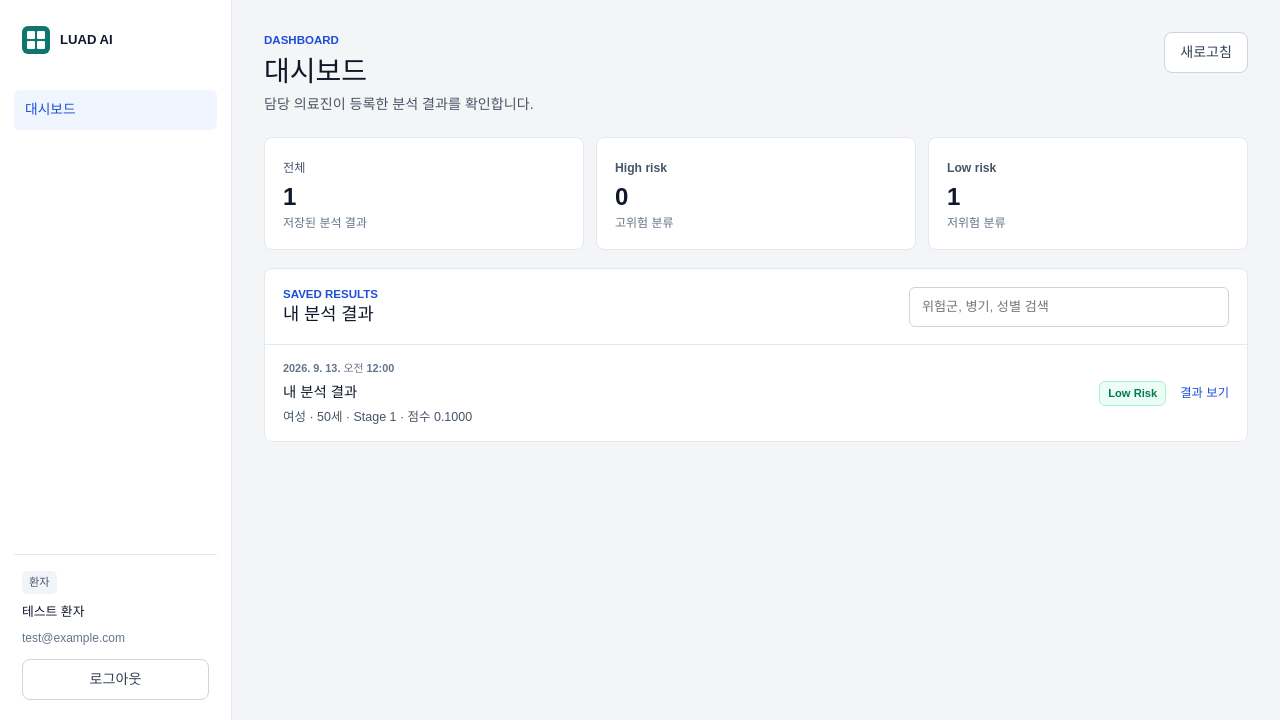
analysis navigation › opens a saved result, returns to the dashboard and signs out
Expected: the heading "대시보드" is shown, 264,56 -> 367,87
Click the button "대시보드": (116, 110) 14,90 -> 217,130
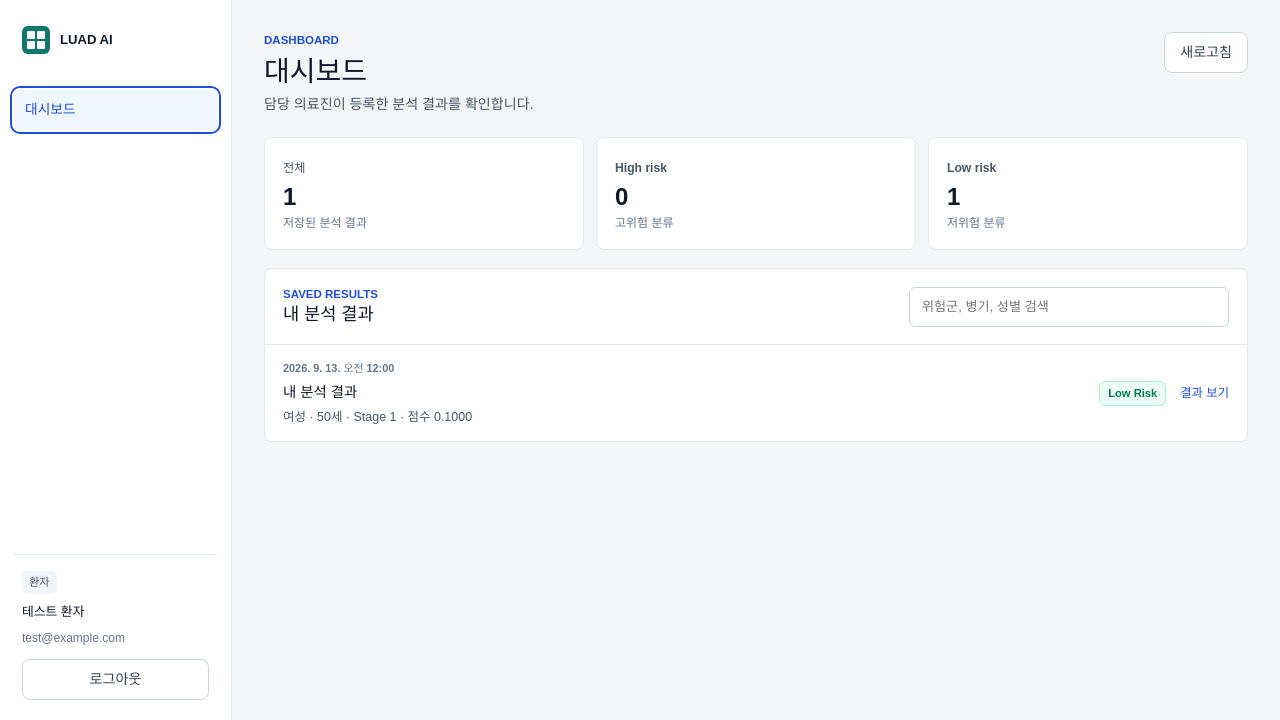
Expected: the heading "내 분석 결과" is shown, 283,303 -> 378,327
Click the button "내 분석 결과": (339, 368) 283,360 -> 1079,426
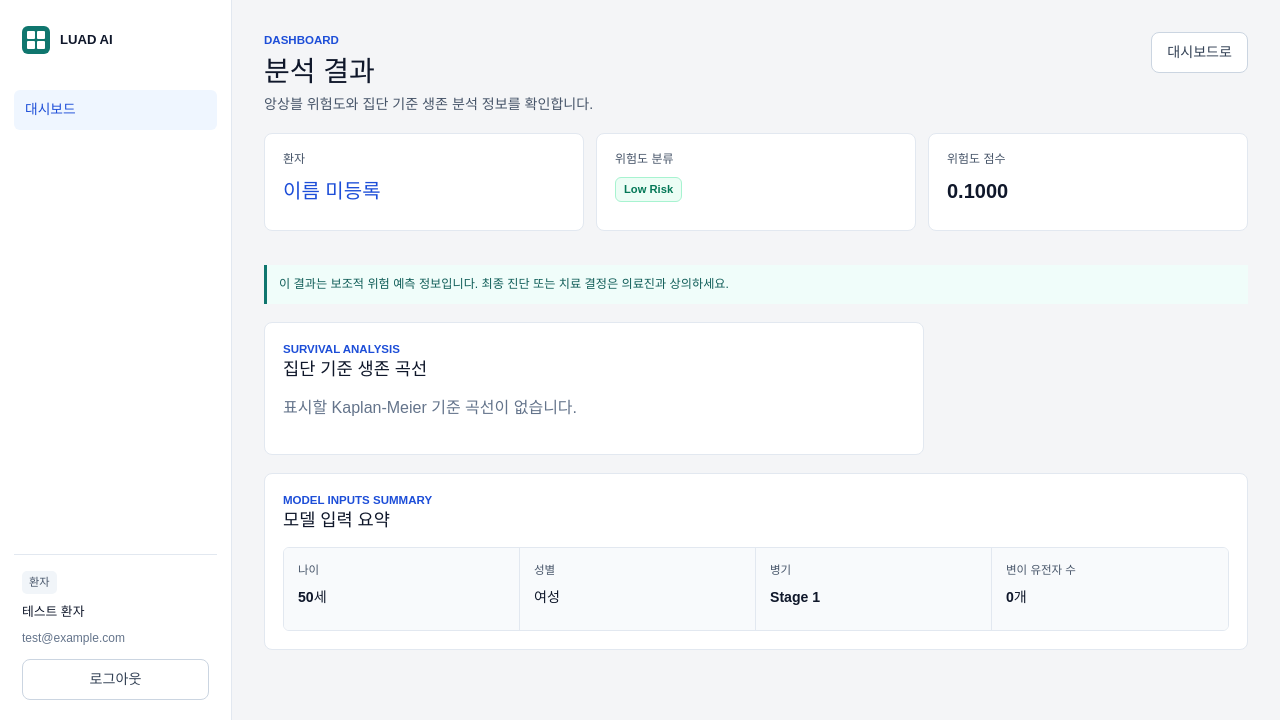
Expected: the heading "분석 결과" is shown, 264,56 -> 375,87
Click the button "대시보드로": (1200, 53) 1151,32 -> 1248,73
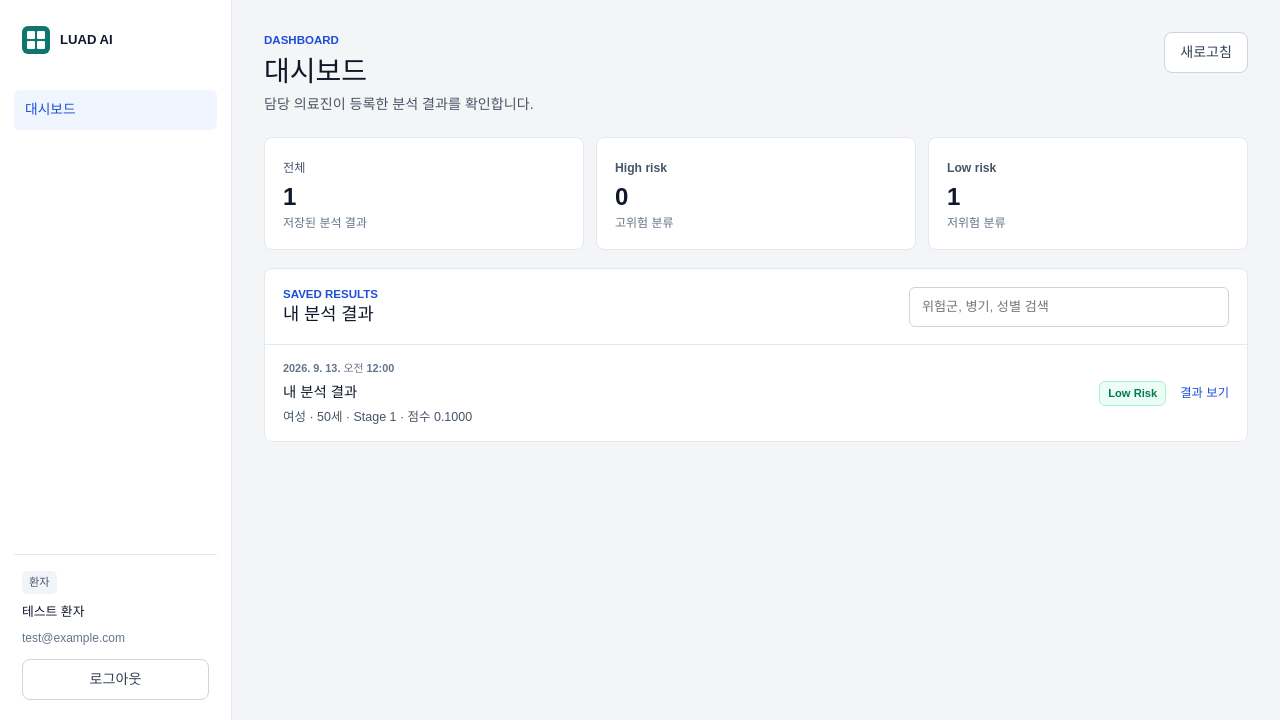
Expected: the heading "내 분석 결과" is shown, 283,303 -> 378,327
Click the button "로그아웃": (116, 679) 22,659 -> 209,700
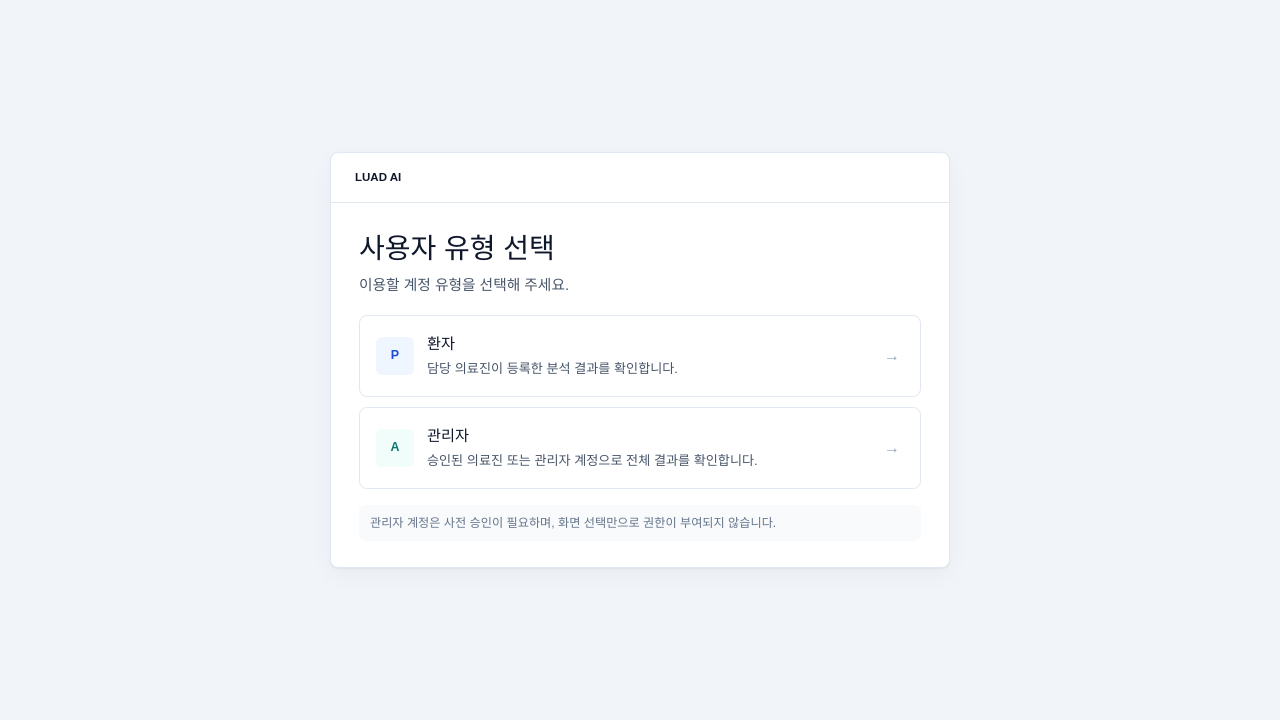
Expected: the heading "사용자 유형 선택" is shown, 359,234 -> 555,264
